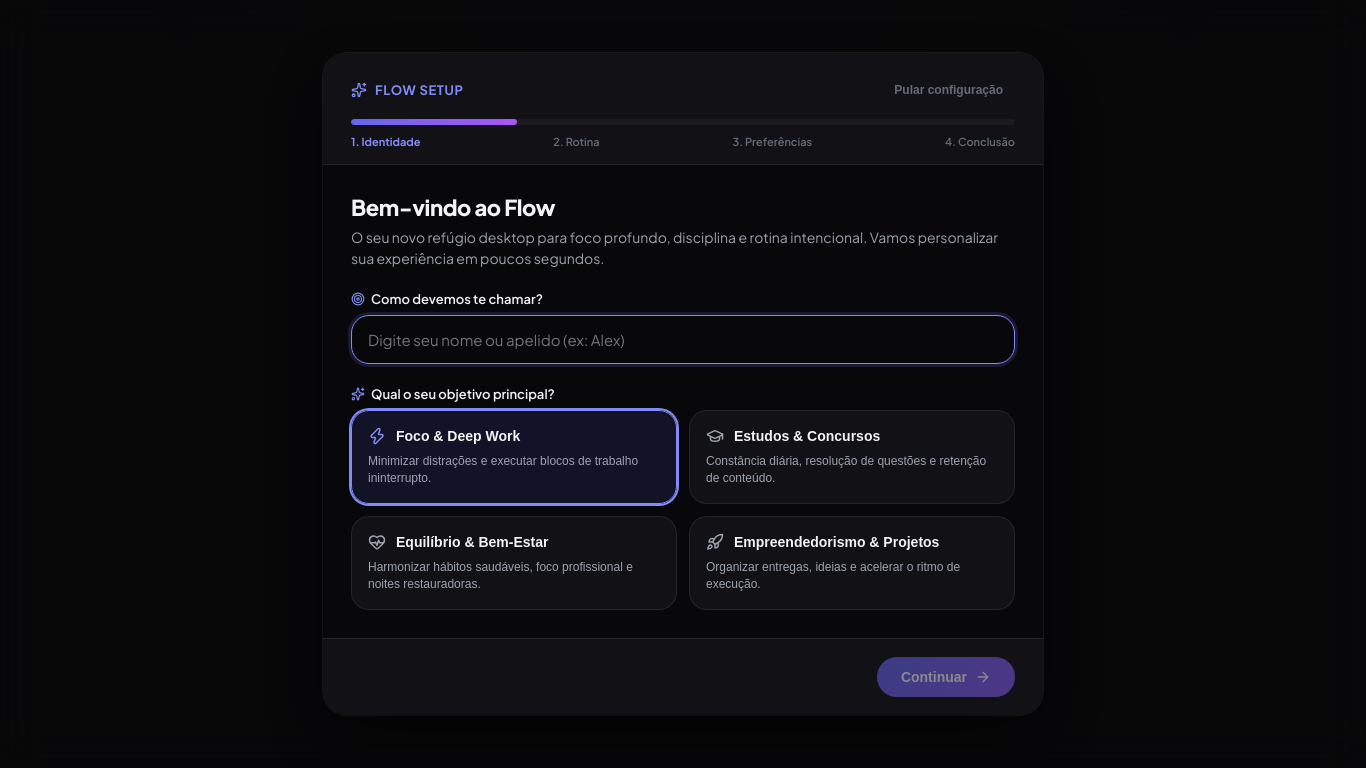
Test case: OnboardingWizard Component › deve desabilitar o botão Continuar no Passo 1 até que um nome seja preenchido
The image size is (1366, 768).
Expected: the button "Continuar" is disabled, [877,657,1015,697]
Type "Alex" into the field with placeholder "Digite seu nome ou apelido (ex: Alex)" at (683, 340), box [351,315,1015,364]
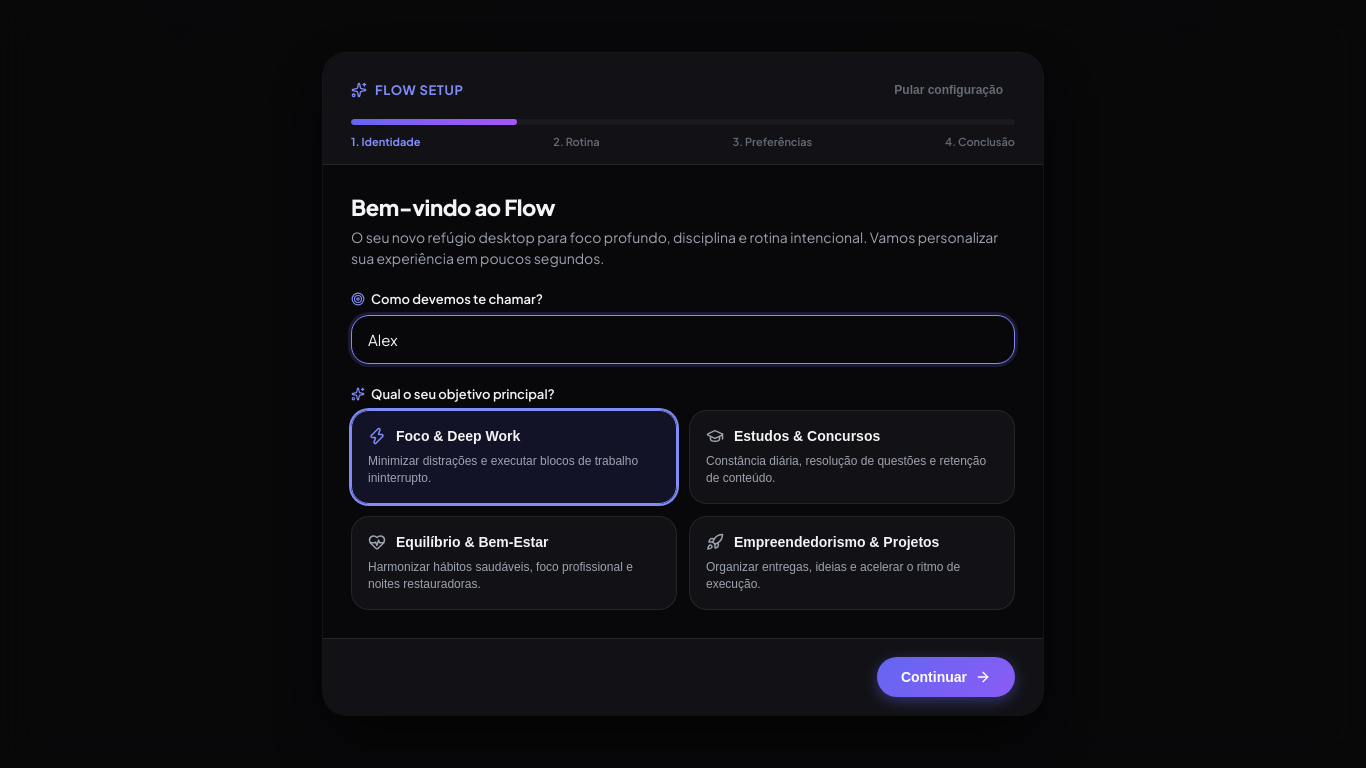
Expected: the button "Continuar" is enabled, [877,657,1015,697]
